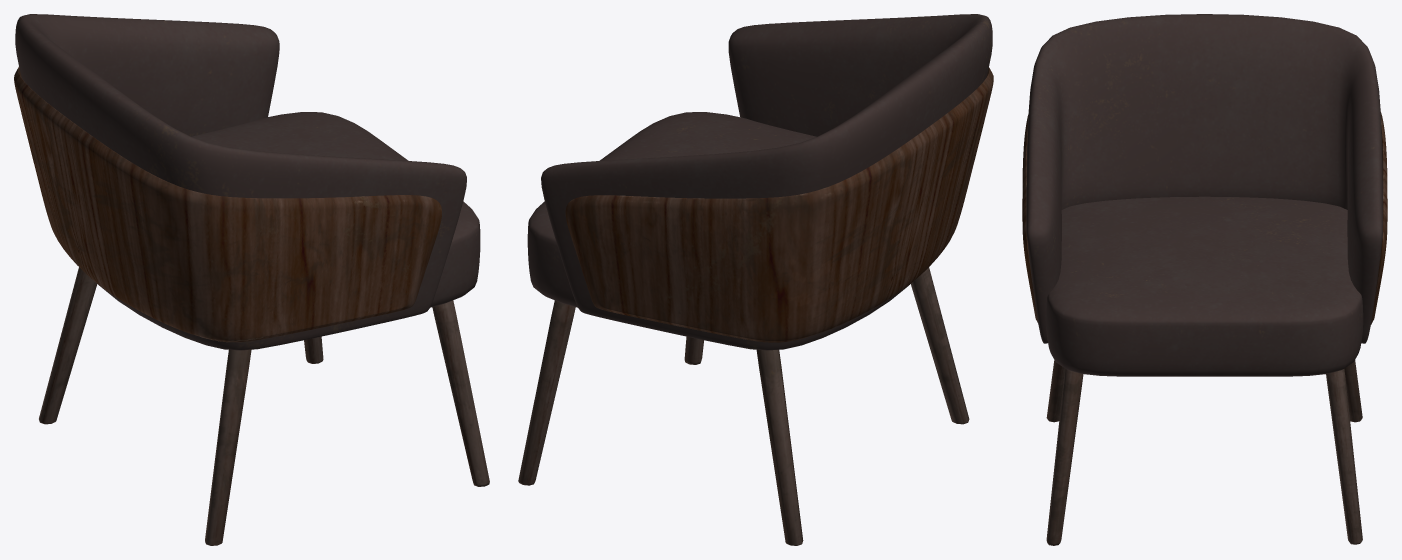
File: Dining Chair4.glb
The picture shows the model from 3 angles, left to right: view 1: azimuth 30°, elevation 25°; view 2: azimuth 150°, elevation 25°; view 3: azimuth 270°, elevation 25°; orthographic projection. The views are drawn at different scales.
Parts seen in each view (by area): view 1: lemn_low, spina_low, legs_low, podushka_low; view 2: lemn_low, spina_low, legs_low, podushka_low; view 3: spina_low, podushka_low, legs_low, lemn_low.
Part boxes in pixels (x1=…): lemn_low: x1=14, y1=67, x2=441, y2=342; spina_low: x1=15, y1=14, x2=466, y2=350; legs_low: x1=39, y1=267, x2=489, y2=545; podushka_low: x1=191, y1=112, x2=480, y2=349; lemn_low: x1=565, y1=67, x2=993, y2=342; spina_low: x1=541, y1=14, x2=992, y2=350; legs_low: x1=518, y1=267, x2=969, y2=545; podushka_low: x1=527, y1=112, x2=816, y2=349; spina_low: x1=1026, y1=14, x2=1382, y2=343; podushka_low: x1=1046, y1=196, x2=1363, y2=376; legs_low: x1=1046, y1=360, x2=1362, y2=545; lemn_low: x1=1022, y1=112, x2=1387, y2=324.
Bounding box in the file's own units: 0.658 × 0.7797 × 0.6633.
Materials: 1 (1 with a texture image).
